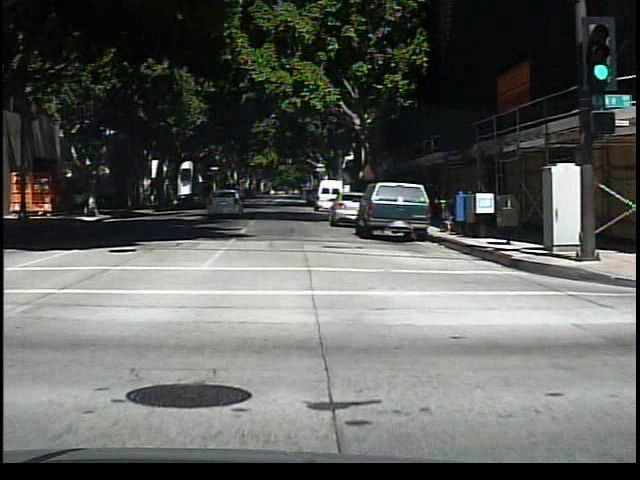person: (73, 183, 89, 218)
